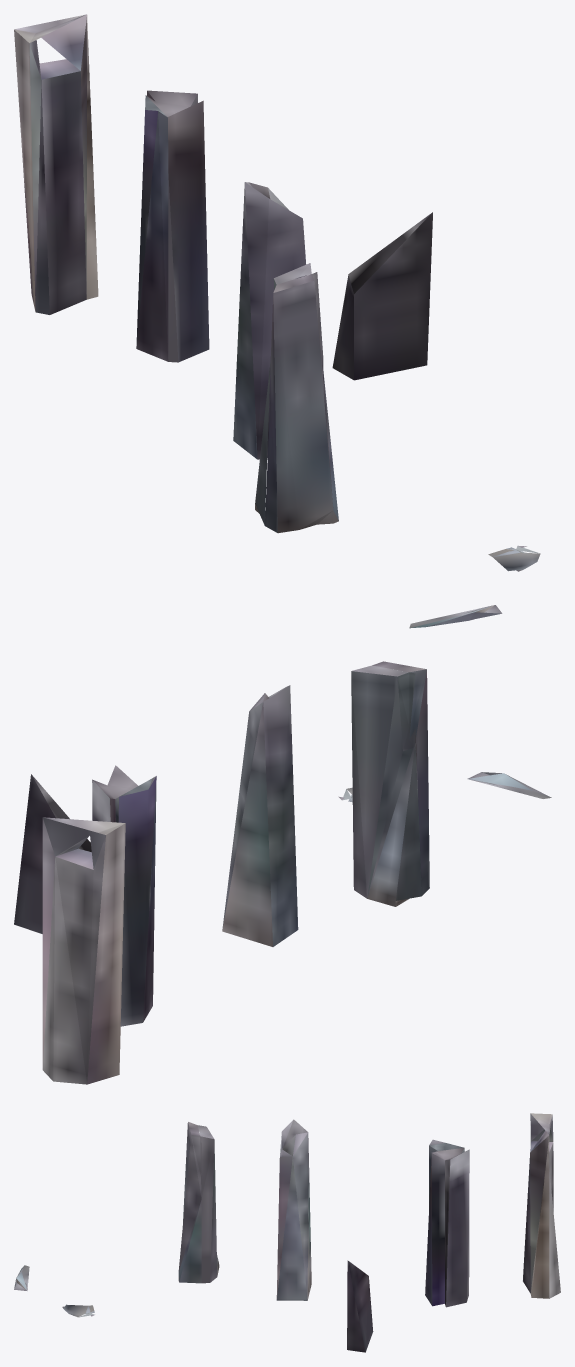
The picture shows the model from 3 angles, top to bottom: view 1: azimuth 30°, elevation 25°; view 2: azimuth 150°, elevation 25°; view 3: azimuth 270°, elevation 25°; orthographic projection. The views are drawn at different scales.
Parts seen in each view (by area): view 1: Mesh_0; view 2: Mesh_0; view 3: Mesh_0.
Boxes of the visible parts, x1=… form: Mesh_0: x1=14, y1=14, x2=540, y2=628; Mesh_0: x1=14, y1=661, x2=551, y2=1084; Mesh_0: x1=14, y1=1113, x2=560, y2=1352.
Size of the model in its own units: 235 by 203 by 614.
1 material, 1 textured.
